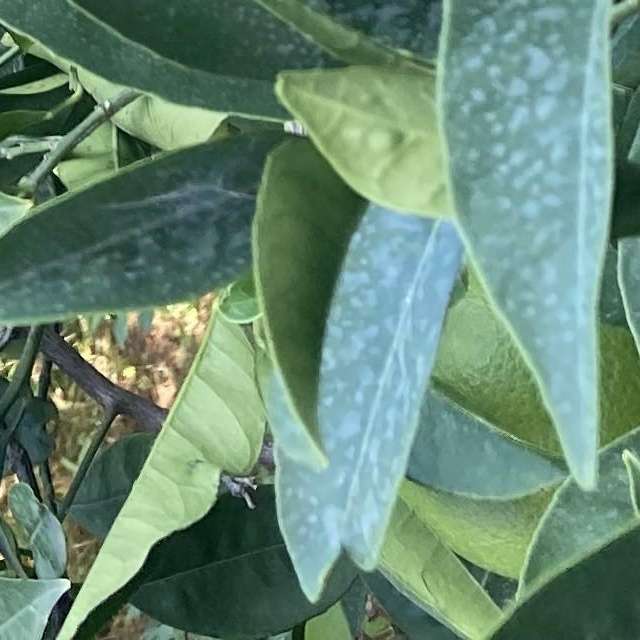orange: (370, 160, 640, 472)
